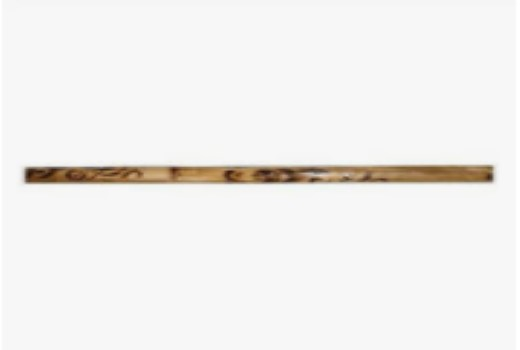baston_e: (32, 164, 484, 190)
baston_v: (18, 160, 50, 195), (483, 159, 496, 183)
